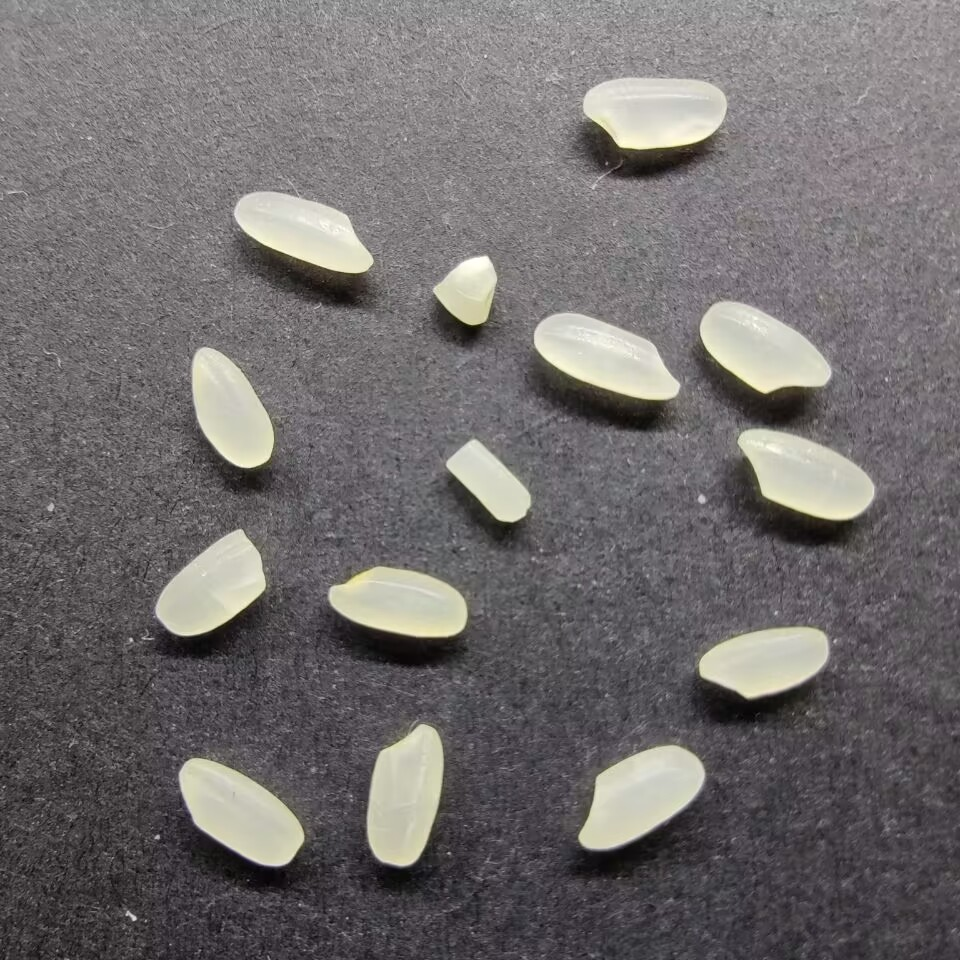broken: (156, 527, 269, 639), (444, 437, 533, 527), (430, 255, 498, 327)
rice: (176, 756, 305, 870), (735, 427, 878, 523), (576, 744, 705, 850), (696, 296, 832, 395), (531, 312, 679, 402), (364, 721, 446, 868), (233, 190, 374, 274), (188, 347, 276, 472), (581, 78, 730, 151), (325, 565, 467, 640), (695, 625, 830, 701)
